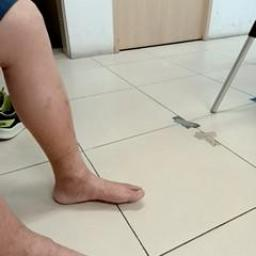Medial View -Left Foot-: (32, 152, 164, 218)
